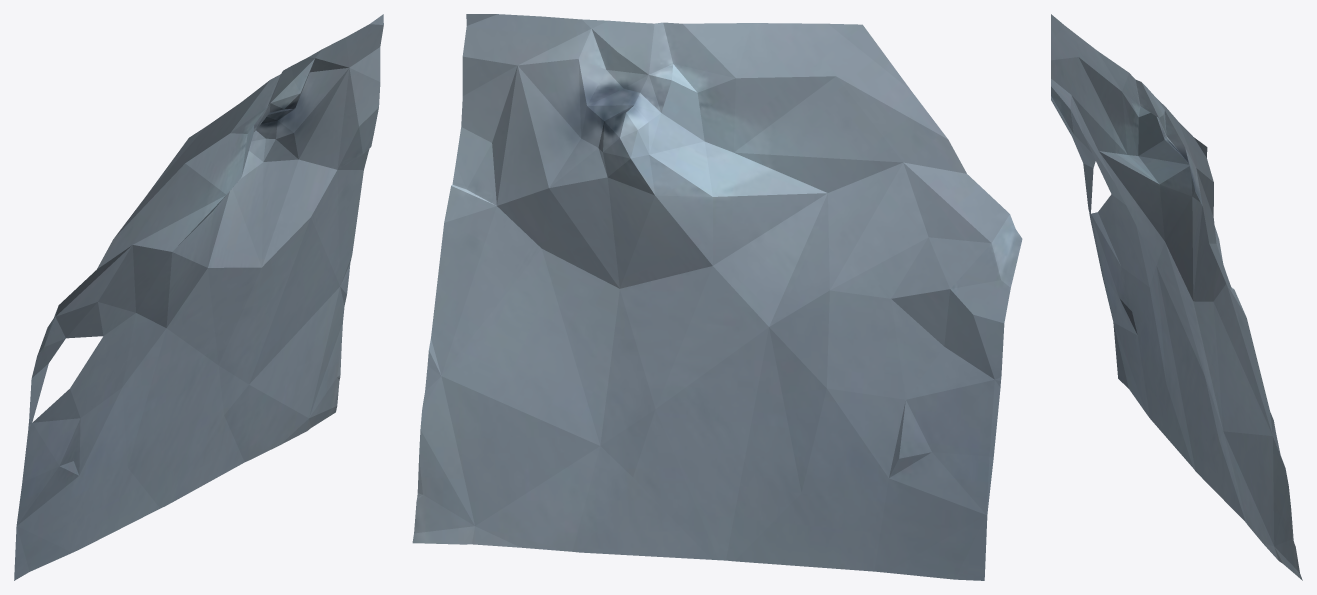
3 renders of one model, left to right at view 1: azimuth 30°, elevation 25°; view 2: azimuth 150°, elevation 25°; view 3: azimuth 270°, elevation 25°, orthographic. The views are drawn at different scales.
Size of the model in its own units: 1.67 by 1.67 by 0.881.
2 materials, 2 textured.
